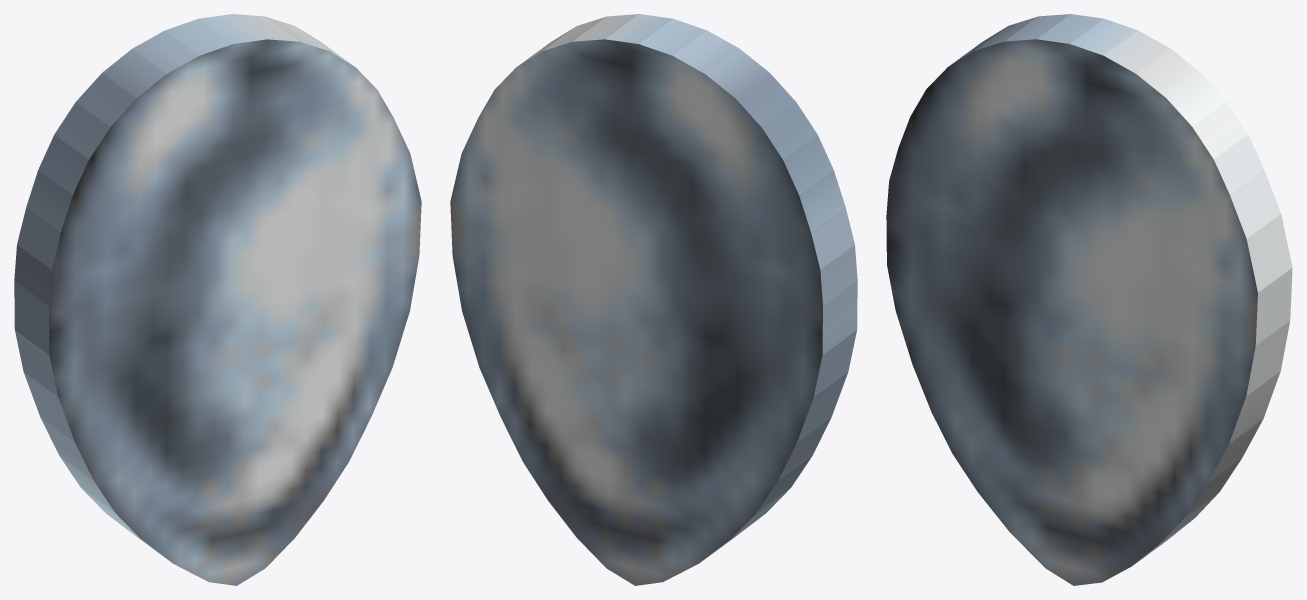
The model's file is Rarity_Common.glb.
The picture shows the model from 3 angles, left to right: view 1: azimuth 30°, elevation 25°; view 2: azimuth 150°, elevation 25°; view 3: azimuth 330°, elevation 25°; orthographic projection.
Visible parts, largest first — view 1: Circle; view 2: Circle; view 3: Circle.
Boxes of the visible parts, x1,y1,x2,y2 form: Circle: (14, 14, 421, 585); Circle: (450, 14, 857, 585); Circle: (886, 14, 1292, 585).
Size of the model in its own units: 0.4969 by 0.6914 by 0.08.
Materials: 1 (1 with a texture image).
